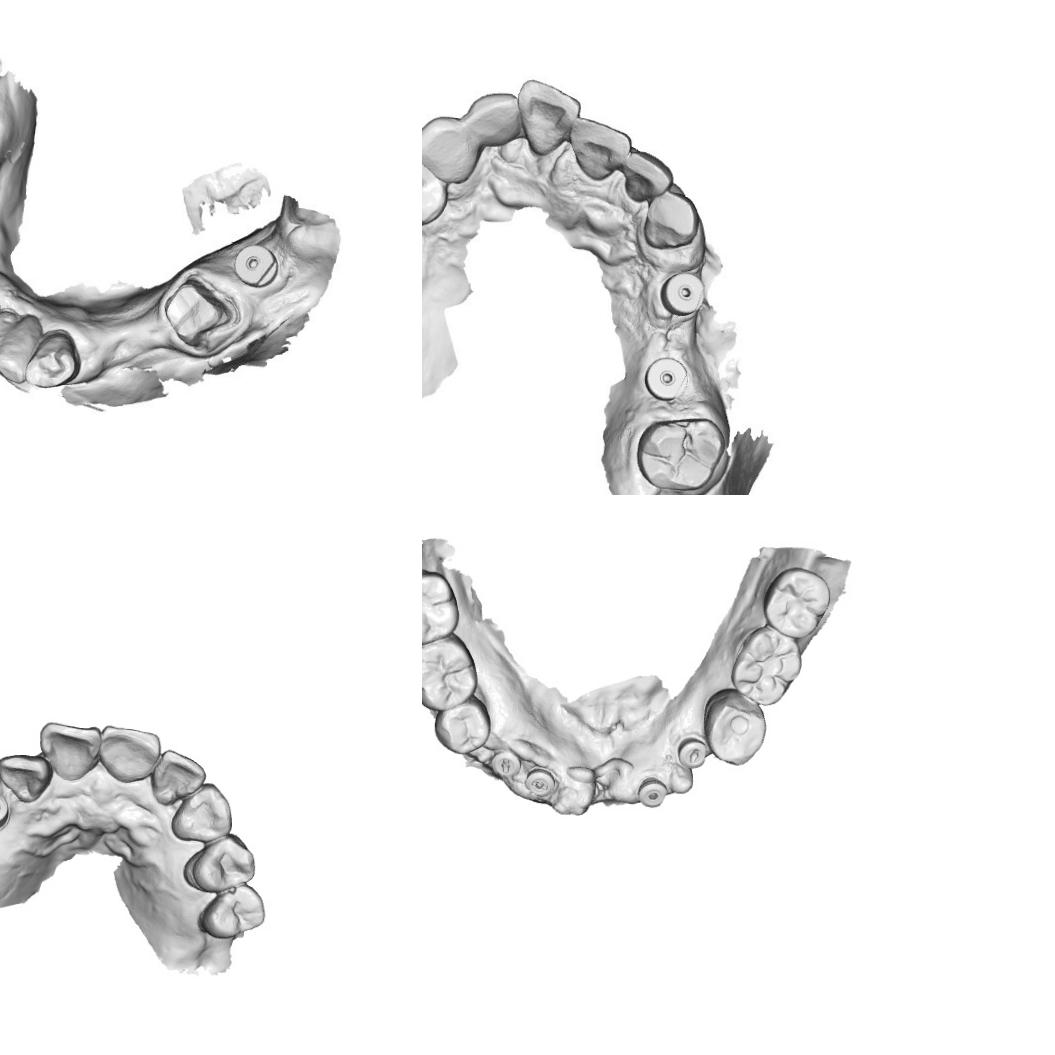canine: (169, 779, 234, 844), (640, 190, 699, 256), (422, 116, 477, 186), (25, 334, 80, 394)
crown: (158, 272, 237, 348)
implant: (231, 238, 284, 288), (643, 350, 692, 404), (662, 268, 708, 315), (638, 778, 666, 806)
implant_minus: (674, 739, 708, 769), (523, 768, 554, 797), (490, 746, 519, 777)
implant_plus: (0, 789, 10, 833)
incisor: (97, 725, 163, 790), (36, 720, 102, 783), (522, 82, 576, 151), (150, 747, 208, 808), (570, 122, 630, 180), (0, 316, 41, 387), (470, 92, 524, 144), (0, 749, 51, 804), (624, 152, 672, 202), (0, 308, 13, 365)
molar: (633, 413, 729, 495), (735, 627, 810, 703), (766, 572, 830, 638), (422, 638, 476, 704), (422, 575, 455, 641)
premolar: (188, 832, 259, 896), (196, 882, 270, 942), (706, 693, 765, 766), (434, 696, 489, 754), (422, 162, 446, 219)
